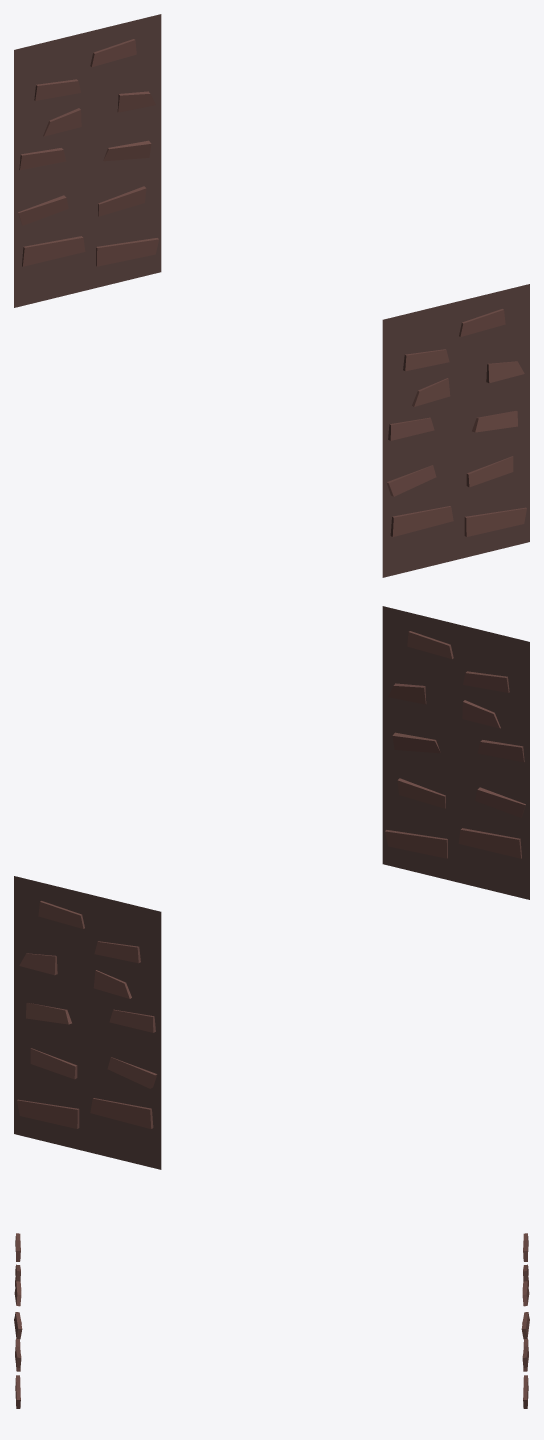
Rendered from bridgeClosed_module.fbx.
3 renders of one model, top to bottom at view 1: azimuth 30°, elevation 25°; view 2: azimuth 150°, elevation 25°; view 3: azimuth 270°, elevation 25°, orthographic. The views are drawn at different scales.
Parts seen in each view (by area): view 1: Plane.245; view 2: Plane.245; view 3: Plane.245.
Boxes of the visible parts, bbox=[...] form: Plane.245: bbox=[14, 14, 529, 577]; Plane.245: bbox=[14, 606, 529, 1169]; Plane.245: bbox=[14, 1233, 529, 1408].
Bounding box in the file's own units: 200 × 335 × 881.
